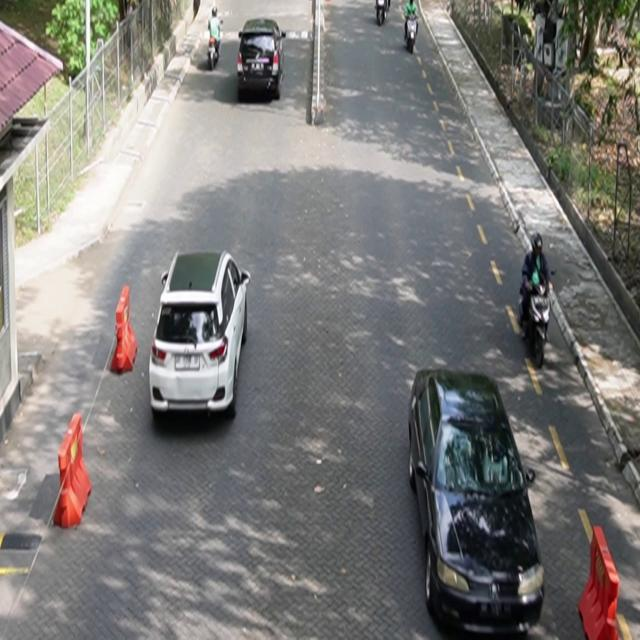car: (408, 367, 546, 638), (150, 250, 251, 419), (238, 18, 287, 101)
